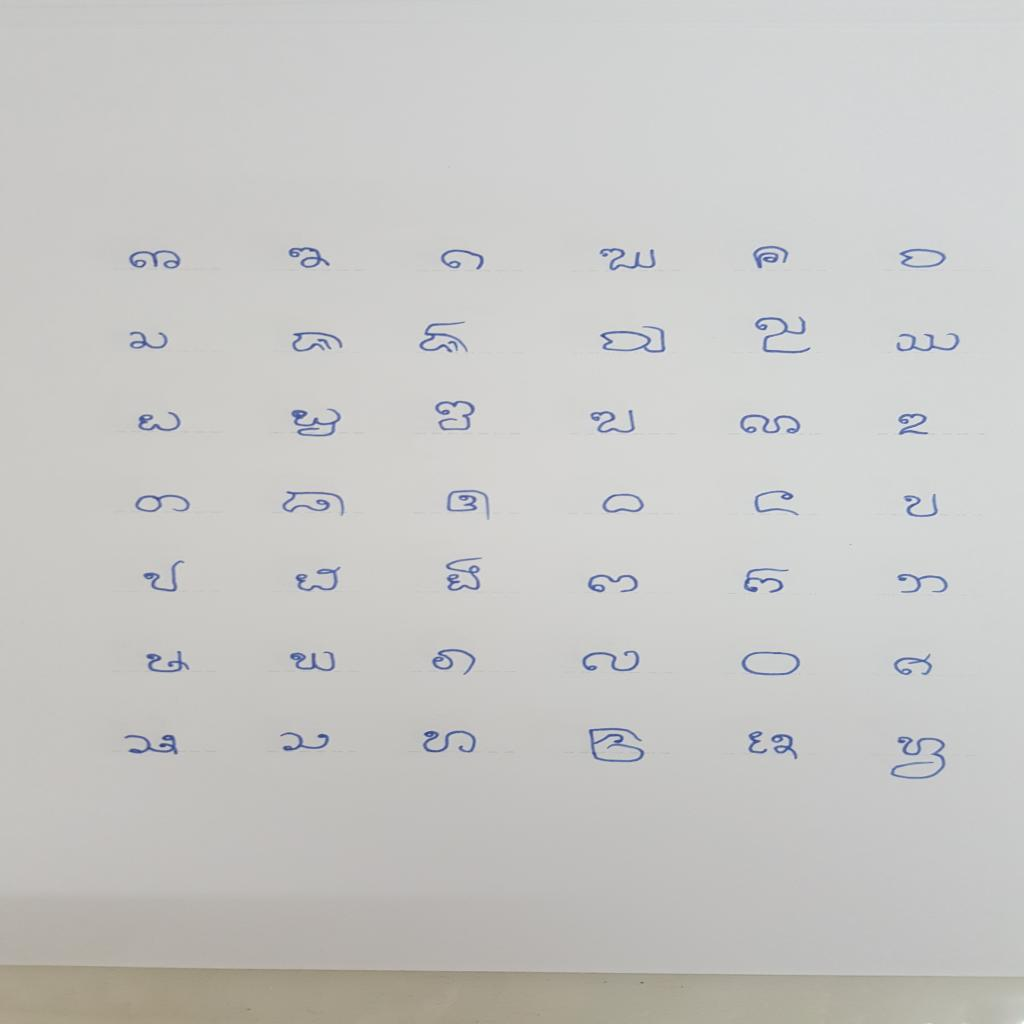LN001: (124, 249, 187, 274)
LN003: (437, 248, 492, 274)
LN004: (594, 245, 663, 276)
LN005: (748, 244, 794, 275)
LN006: (895, 245, 953, 273)
LN007: (123, 329, 176, 354)
LN008: (288, 329, 349, 357)
LN010: (596, 323, 673, 358)
LN011: (751, 314, 818, 359)
LN012: (892, 331, 967, 358)
LN015: (429, 399, 482, 436)
LN016: (585, 408, 643, 437)
LN017: (734, 412, 808, 438)
LN018: (893, 411, 936, 440)
LN019: (131, 493, 198, 516)
LN020: (278, 488, 352, 521)
LN021: (442, 487, 500, 525)
LN022: (599, 492, 651, 516)
LN023: (749, 488, 807, 520)
LN024: (897, 491, 945, 521)
LN025: (140, 558, 191, 596)
LN027: (442, 554, 488, 596)
LN028: (582, 573, 645, 598)
LN029: (740, 566, 797, 598)
LN030: (894, 571, 953, 598)
LN031: (140, 649, 197, 677)
LN032: (283, 648, 343, 675)
LN033: (426, 646, 484, 680)
LN034: (576, 649, 647, 676)
LN035: (736, 649, 808, 680)
LN036: (889, 652, 940, 680)
LN037: (117, 732, 185, 760)
LN039: (415, 728, 484, 758)
LN042: (884, 735, 953, 784)
